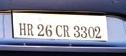0: (86, 25, 94, 38)
2: (36, 22, 44, 37), (93, 25, 101, 38)
3: (79, 24, 87, 38), (72, 24, 80, 37)
6: (44, 23, 53, 36)
C: (54, 24, 62, 36)
H: (16, 21, 26, 36)
R: (61, 23, 70, 37), (25, 22, 33, 35)
